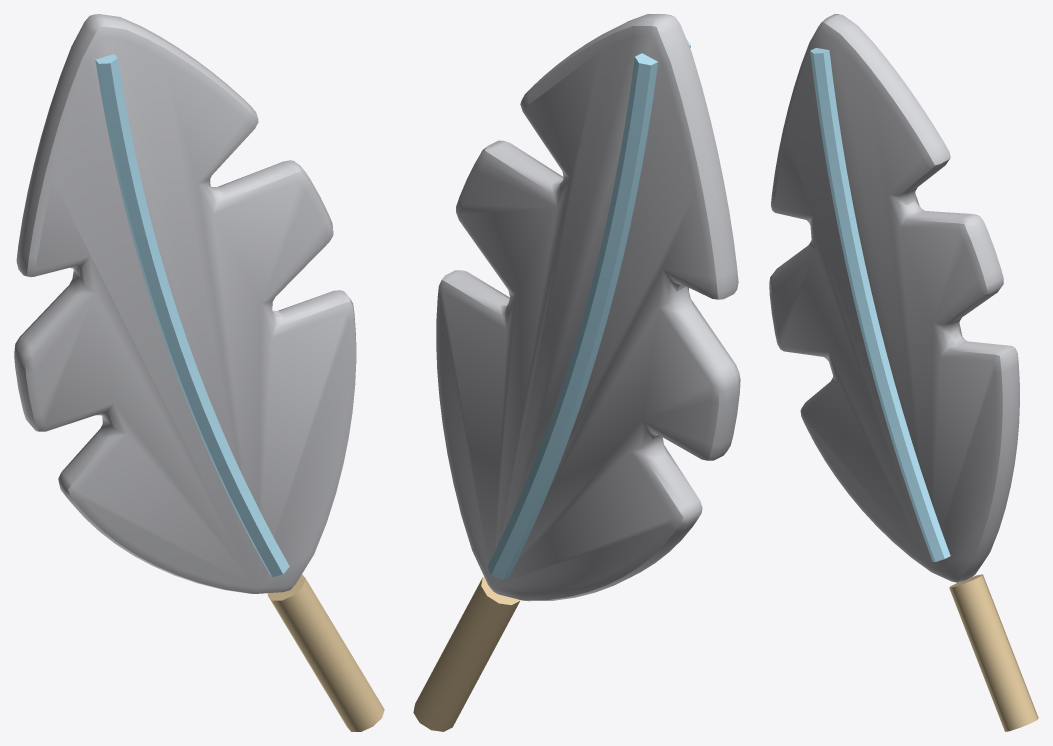
Rendered from Feather.fbx.
3 views of the same model, side by side, from view 1: azimuth 30°, elevation 25°; view 2: azimuth 150°, elevation 25°; view 3: azimuth 330°, elevation 25° (orthographic). The views are drawn at different scales.
Parts seen in each view (by area): view 1: Feather_Body, Feather_Neon, Feather_Trim; view 2: Feather_Body, Feather_Neon, Feather_Trim; view 3: Feather_Body, Feather_Neon, Feather_Trim.
Part boxes in pixels (<box>): Feather_Body: <box>14,14,356,593</box>; Feather_Neon: <box>95,54,289,577</box>; Feather_Trim: <box>267,574,384,731</box>; Feather_Body: <box>436,14,740,601</box>; Feather_Neon: <box>487,39,690,579</box>; Feather_Trim: <box>413,576,520,731</box>; Feather_Body: <box>769,14,1019,582</box>; Feather_Neon: <box>810,48,950,561</box>; Feather_Trim: <box>949,574,1038,731</box>.
Bounding box in the file's own units: 1.4 × 3 × 0.3811.
